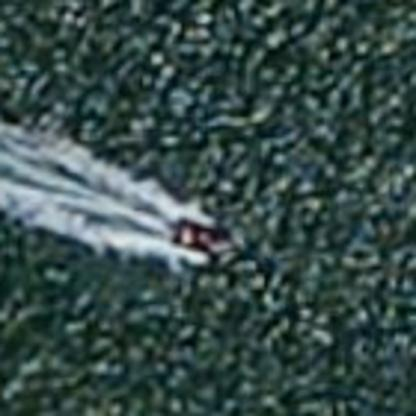ship: (163, 207, 248, 272)
